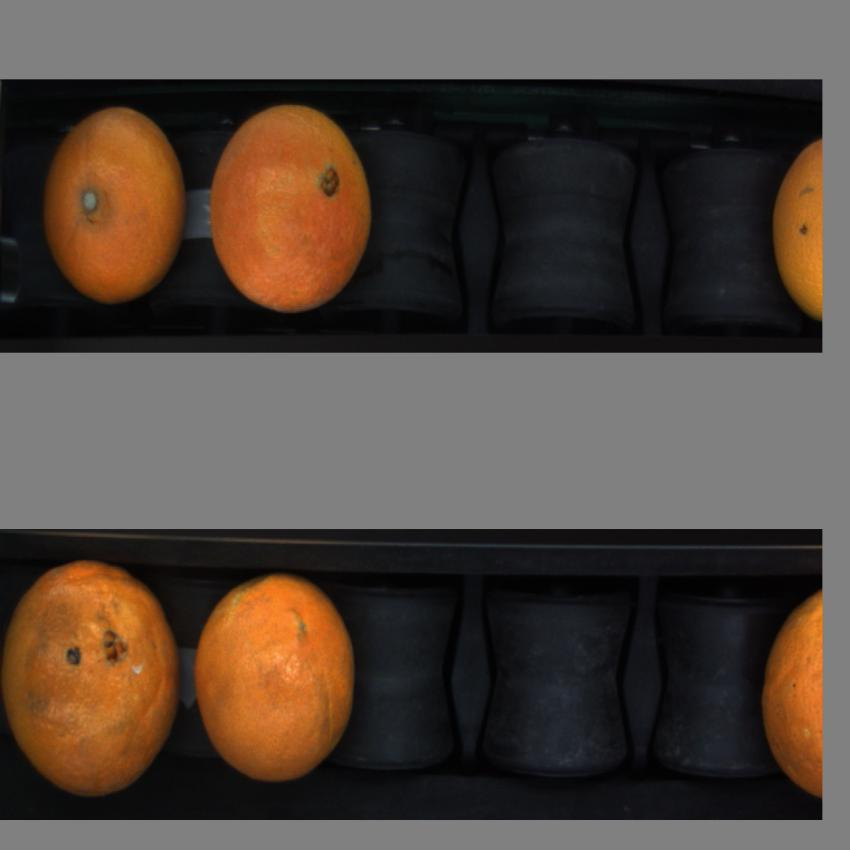Buen estado: (207, 99, 382, 312), (40, 108, 196, 309), (765, 125, 822, 328)
Mal estado: (2, 562, 192, 798), (195, 568, 358, 785), (760, 591, 824, 812)
